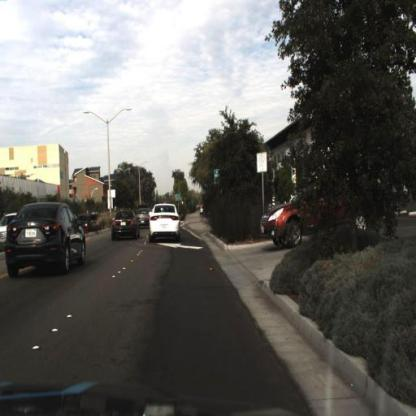car: (258, 173, 388, 250), (3, 199, 84, 280), (147, 200, 181, 242), (111, 207, 139, 245)
